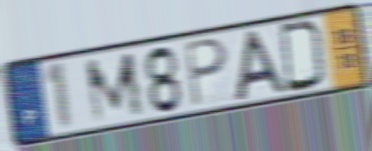1: (44, 59, 73, 134)
8: (141, 42, 183, 117)
A: (232, 27, 290, 104)
D: (277, 19, 328, 95)
M: (82, 49, 148, 126)
P: (182, 36, 230, 110)
